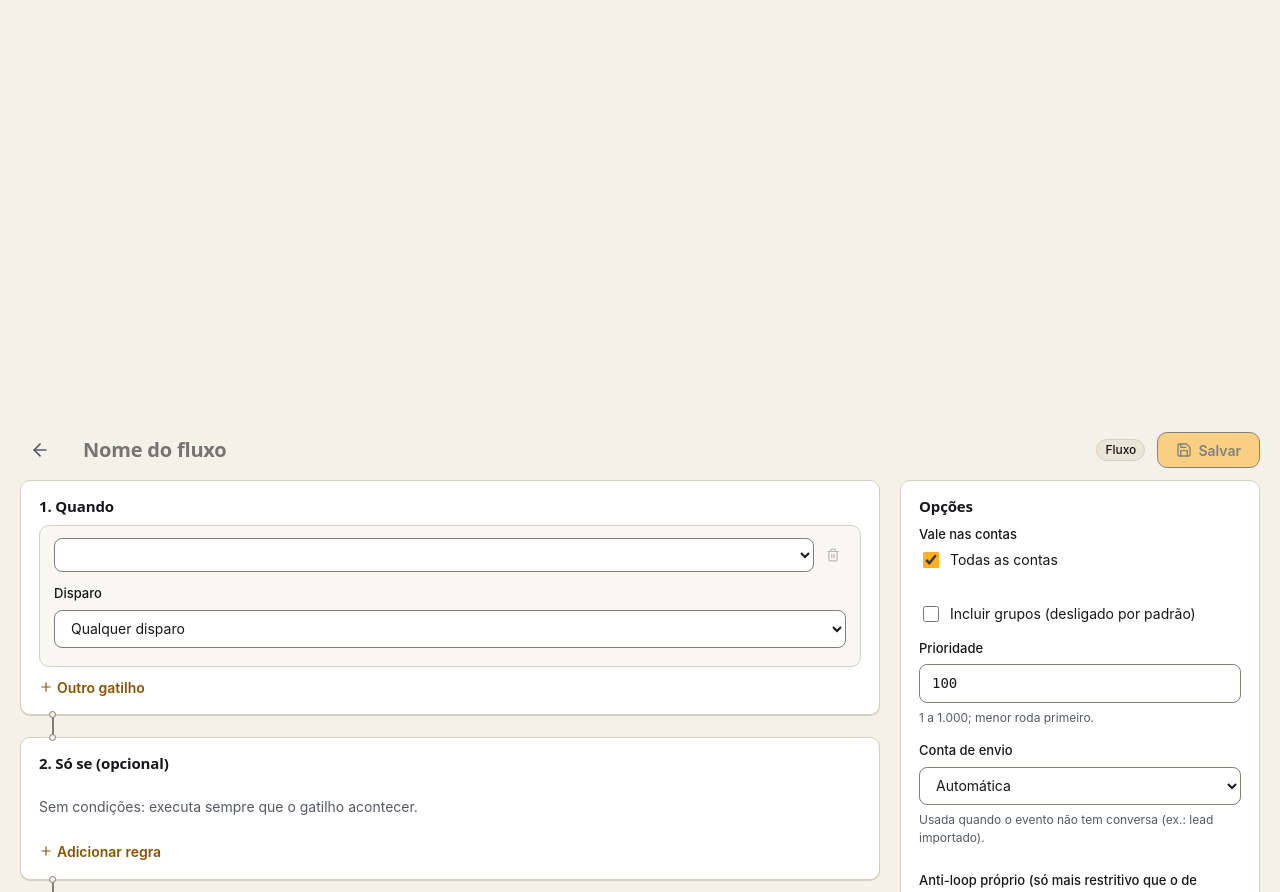
it: EditorFluxo › mostra os erros de validação do motor no campo certo
This screenshot has width=1280, height=892.
(page scrolled)
Step 1. Type "Teste" into the field named "Nome da automação" → [578, 450], box [72,430,1084,470]
(page scrolled)
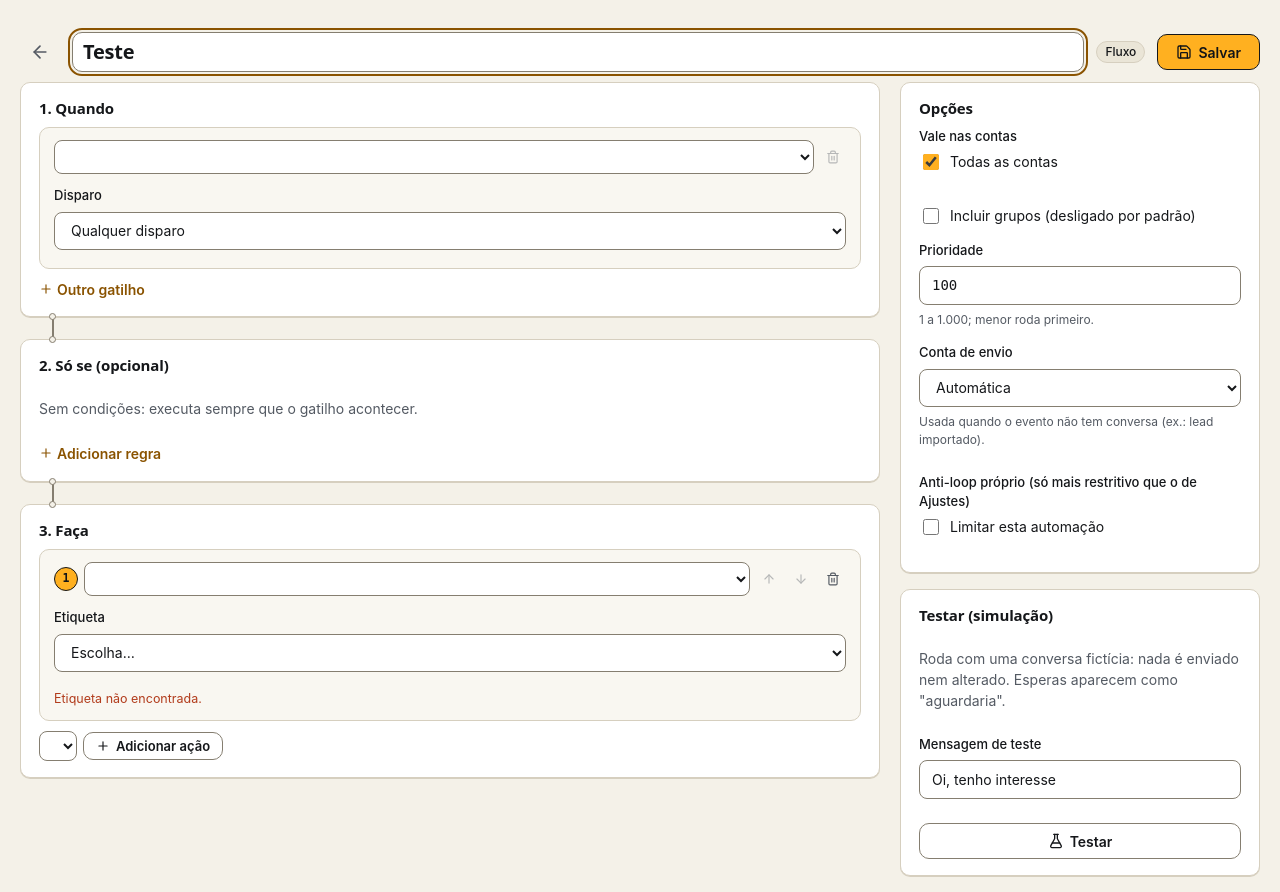
Check: the list item "Etiqueta não encontrada." is shown, box [54,690,202,706]
